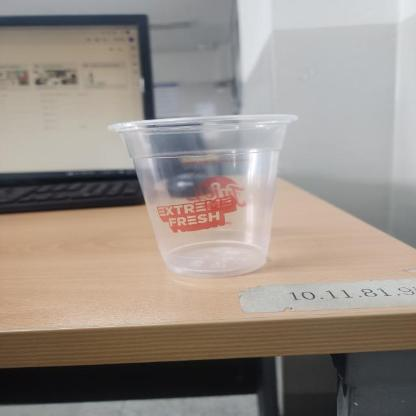Plastic Cup: (108, 112, 298, 276)
